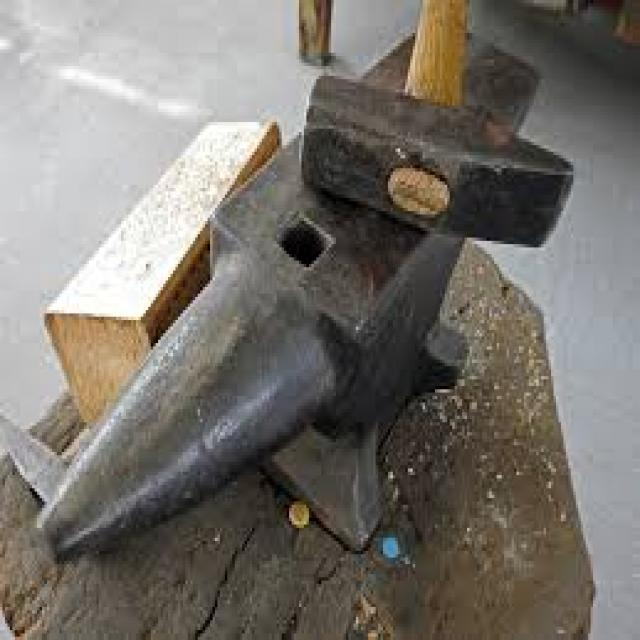hammer: (292, 0, 586, 251)
